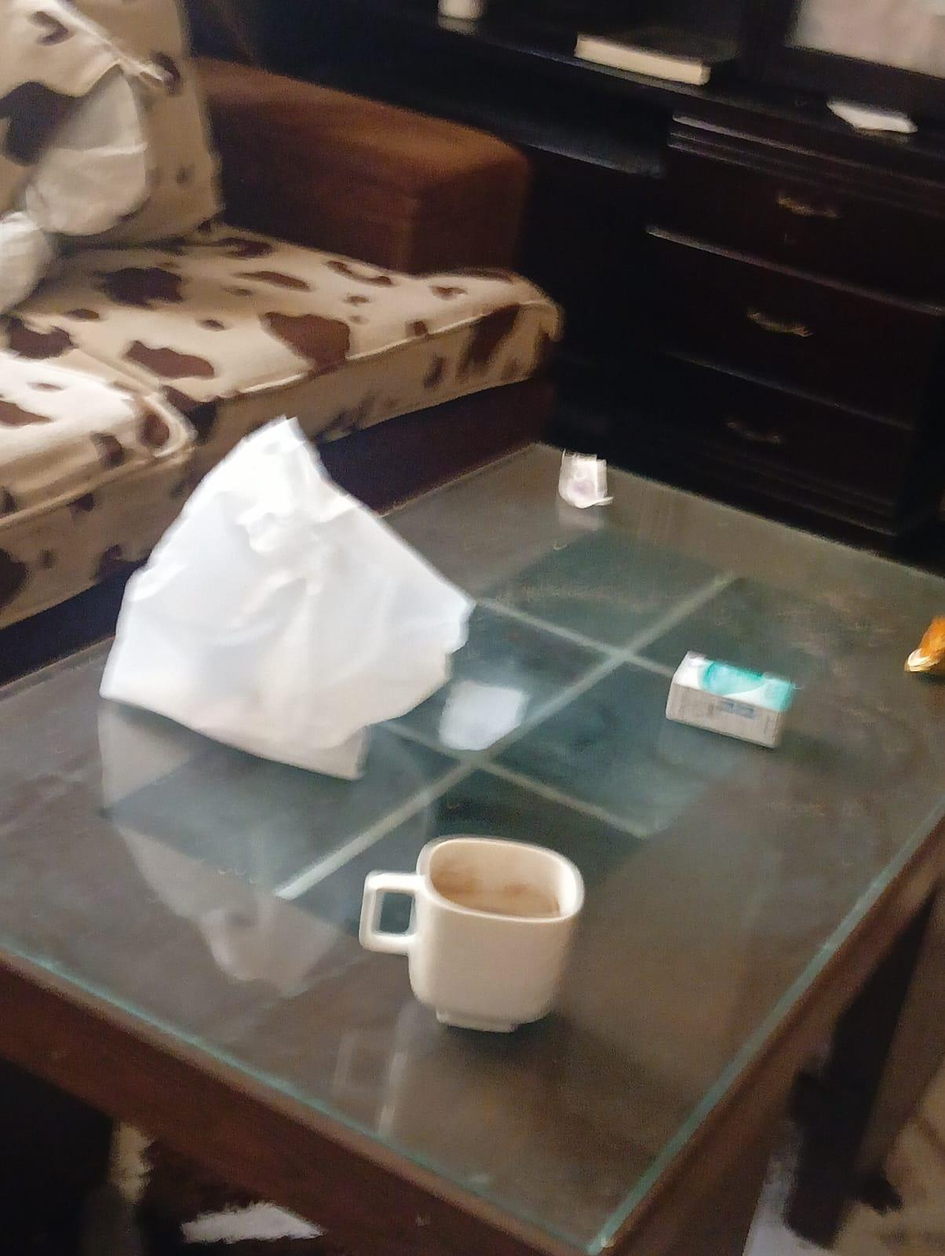cup: (359, 836, 582, 1031)
